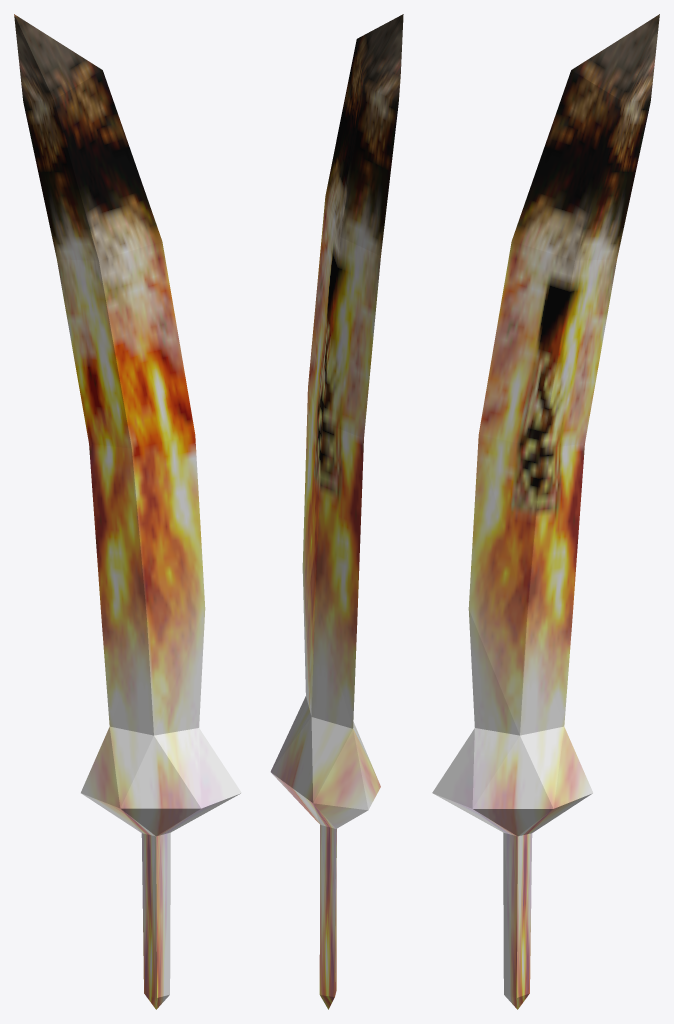
Rendered from heavybladev01_3.obj.
3 renders of one model, left to right at view 1: azimuth 90°, elevation 25°; view 2: azimuth 210°, elevation 25°; view 3: azimuth 270°, elevation 25°, orthographic. The views are drawn at different scales.
Visible parts, largest first — view 1: MDL_cw2hkt01_3; view 2: MDL_cw2hkt01_3; view 3: MDL_cw2hkt01_3.
Part boxes in pixels (x1,y1,x2,y2): MDL_cw2hkt01_3: [14, 14, 241, 1009]; MDL_cw2hkt01_3: [270, 14, 403, 1009]; MDL_cw2hkt01_3: [432, 14, 659, 1009].
Bounding box in the file's own units: 0.1213 × 1.8 × 0.3724.
